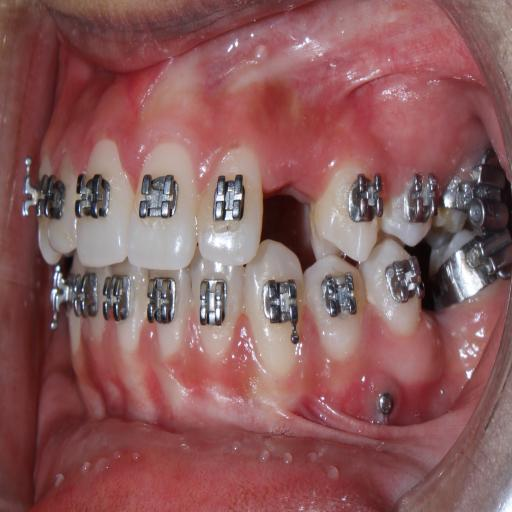correct_brace: (304, 169, 385, 266), (305, 253, 372, 354), (134, 167, 184, 229), (321, 267, 358, 322), (76, 170, 111, 223), (211, 174, 242, 232), (260, 283, 298, 326)
incorrect_brace: (201, 151, 263, 272), (345, 168, 387, 228)
